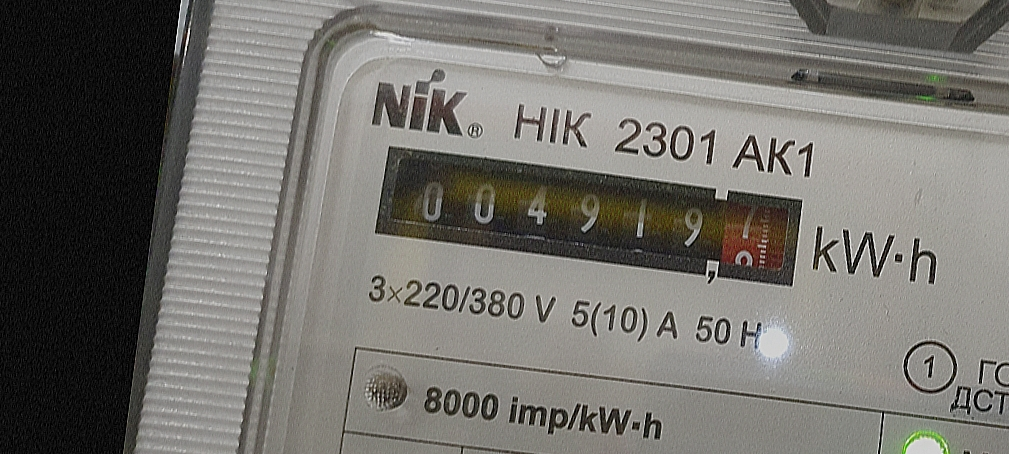0: (467, 178, 499, 227), (416, 177, 445, 223)
1: (629, 194, 649, 241)
4: (520, 180, 550, 226)
7: (731, 200, 759, 242)
9: (676, 202, 705, 251), (573, 190, 601, 236)
screen: (359, 130, 820, 306)
